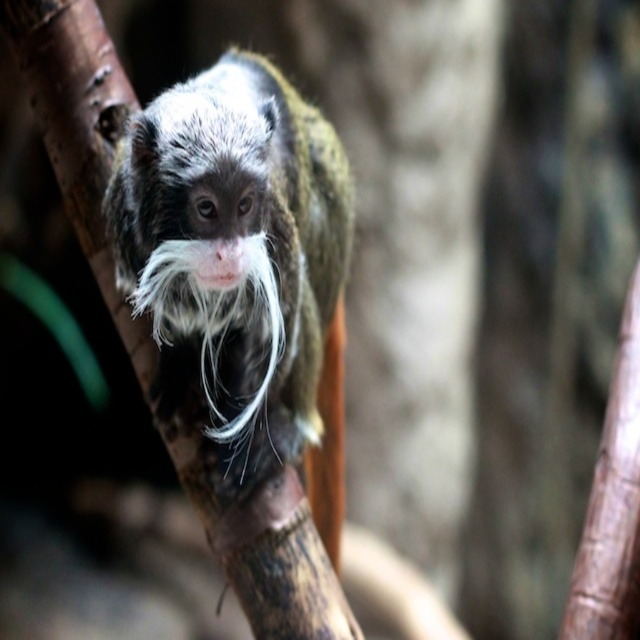Monkey: (101, 43, 356, 486)
